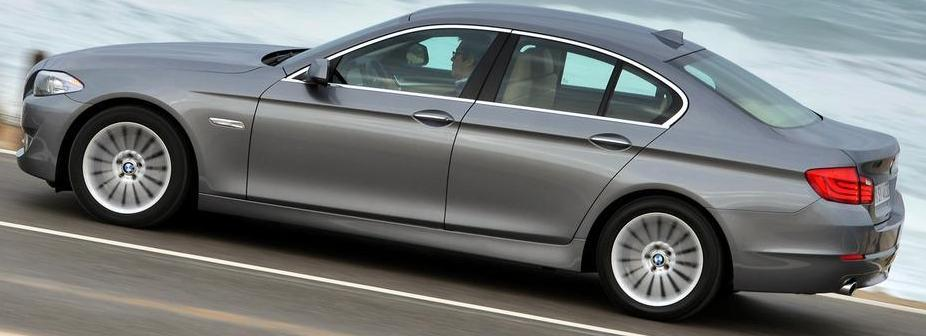back_view: (800, 134, 914, 292)
backlight: (808, 163, 877, 209)
headlight: (29, 65, 84, 103)
side_glass: (298, 16, 675, 126)
